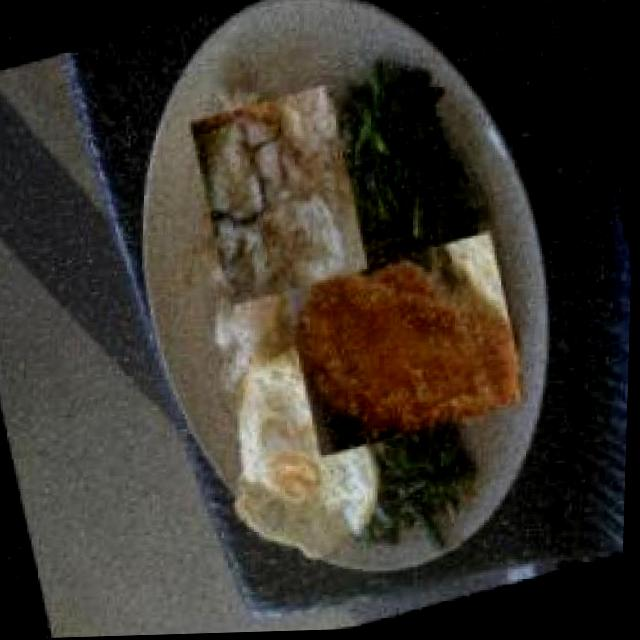fried_chicken: (277, 229, 537, 463)
fried_eggs: (214, 335, 403, 580)
rice: (183, 81, 378, 314)
water_spinach: (327, 62, 474, 268)
